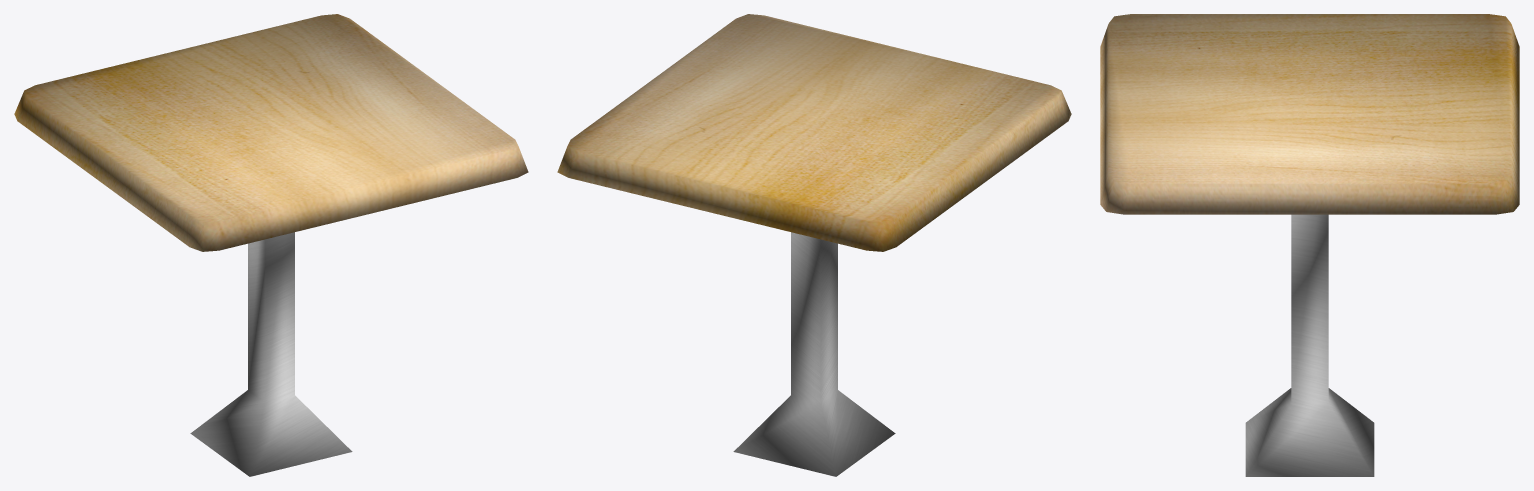
Rendered from 教室桌子.FBX.
The picture shows the model from 3 angles, left to right: view 1: azimuth 30°, elevation 25°; view 2: azimuth 150°, elevation 25°; view 3: azimuth 270°, elevation 25°; orthographic projection. The views are drawn at different scales.
Visible parts, largest first — view 1: Box007; view 2: Box007; view 3: Box007.
Boxes of the visible parts, x1=… form: Box007: x1=14, y1=14, x2=528, y2=476; Box007: x1=557, y1=14, x2=1071, y2=476; Box007: x1=1100, y1=14, x2=1519, y2=476.
Size of the model in its own units: 70 by 64.57 by 70.
1 material, 1 textured.
